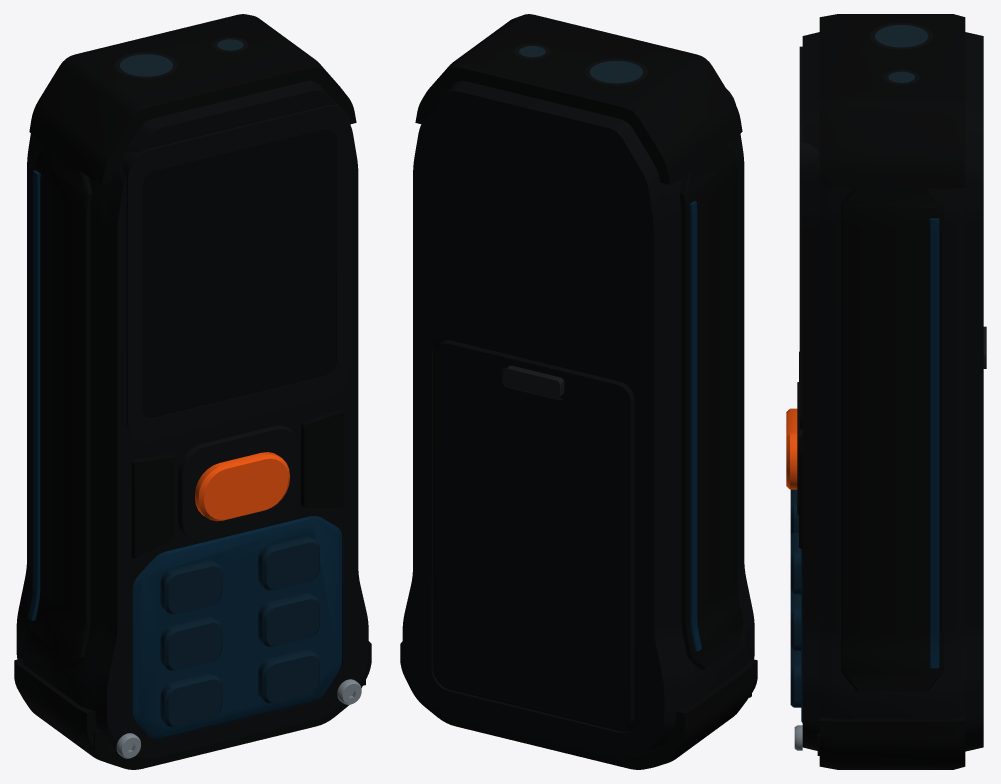
3 renders of one model, left to right at view 1: azimuth 30°, elevation 25°; view 2: azimuth 150°, elevation 25°; view 3: azimuth 270°, elevation 25°, orthographic.
Visible parts, largest first — view 1: part_072_Display_protective_window, part_059_Front_fascia, part_040_Left_side_grip, part_001_Upper_corner_guard, part_038_Lower_control_carrier, part_071_Display_surround, part_004_Structural_perimeter_shell, part_029_Measuring_key_raised_surround, part_037_Lower_corner_guard, part_021_Oval_measuring_key, part_042_Left_front_grip_wing, part_007_Right_front_grip_wing (+9 smaller); view 2: part_013_Rear_enclosure_frame, part_111_Battery_compartment_door, part_040_Left_side_grip, part_001_Upper_corner_guard, part_004_Structural_perimeter_shell, part_037_Lower_corner_guard, part_059_Front_fascia, part_041_Left_rear_grip_rail, part_110_Battery_door_seal, part_109_Battery_door_sliding_latch, part_008_Receiver_optical_window; view 3: part_005_Right_side_grip, part_004_Structural_perimeter_shell, part_001_Upper_corner_guard, part_013_Rear_enclosure_frame, part_059_Front_fascia, part_037_Lower_corner_guard, part_006_Right_rear_grip_rail, part_071_Display_surround, part_008_Receiver_optical_window, part_021_Oval_measuring_key, part_081_Control_key_1_2, part_077_Control_key_3_2 (+4 smaller).
Part boxes in pixels (x1,y1,x2,y2): part_072_Display_protective_window: (142,129,335,418); part_059_Front_fascia: (95,80,368,758); part_040_Left_side_grip: (28,146,92,669); part_001_Upper_corner_guard: (29,14,356,184); part_038_Lower_control_carrier: (132,516,342,739); part_071_Display_surround: (121,102,350,441); part_004_Structural_perimeter_shell: (23,140,135,756); part_029_Measuring_key_raised_surround: (178,425,298,540); part_037_Lower_corner_guard: (14,641,371,769); part_021_Oval_measuring_key: (195,452,289,521); part_042_Left_front_grip_wing: (131,454,174,558); part_007_Right_front_grip_wing: (301,409,344,507); part_013_Rear_enclosure_frame: (402,80,676,759); part_111_Battery_compartment_door: (436,340,634,728); part_040_Left_side_grip: (679,146,743,669); part_001_Upper_corner_guard: (415,14,742,184); part_004_Structural_perimeter_shell: (636,140,748,756); part_037_Lower_corner_guard: (400,641,757,769); part_059_Front_fascia: (734,134,754,659); part_041_Left_rear_grip_rail: (689,201,701,651); part_110_Battery_door_seal: (433,338,635,731); part_109_Battery_door_sliding_latch: (504,365,564,398); part_008_Receiver_optical_window: (590,61,642,83); part_005_Right_side_grip: (841,188,944,691); part_004_Structural_perimeter_shell: (819,187,965,719); part_001_Upper_corner_guard: (819,14,965,188); part_013_Rear_enclosure_frame: (965,32,983,751); part_059_Front_fascia: (802,32,819,750); part_037_Lower_corner_guard: (817,716,965,769); part_006_Right_rear_grip_rail: (929,218,939,668); part_071_Display_surround: (799,46,818,429); part_008_Receiver_optical_window: (875,25,928,47); part_021_Oval_measuring_key: (786,408,797,489); part_081_Control_key_1_2: (790,532,801,594); part_077_Control_key_3_2: (790,649,801,707).
Size of the model in its own units: 0.055 by 0.121 by 0.033.
